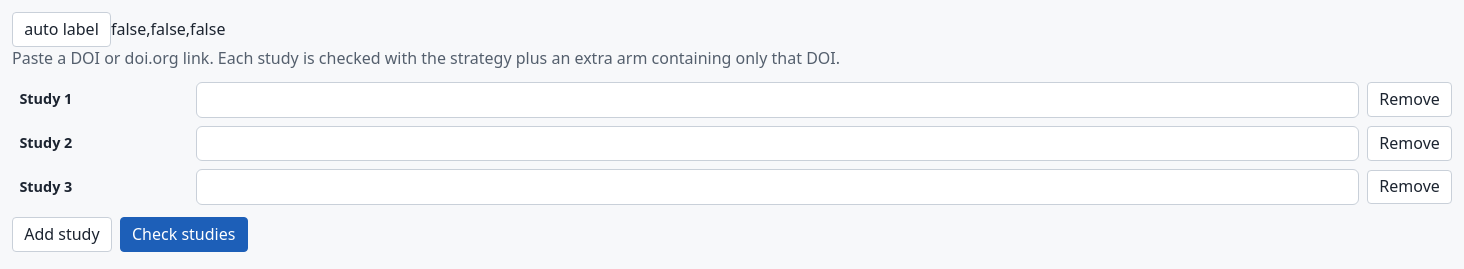
it: StudiesPanel › typing a name marks the label edited; clearing it unlocks it
The image size is (1464, 269).
Type "Custom, 2020" into the field named "Name for study 1". click: (100, 100)
box: [12,84,188,116]
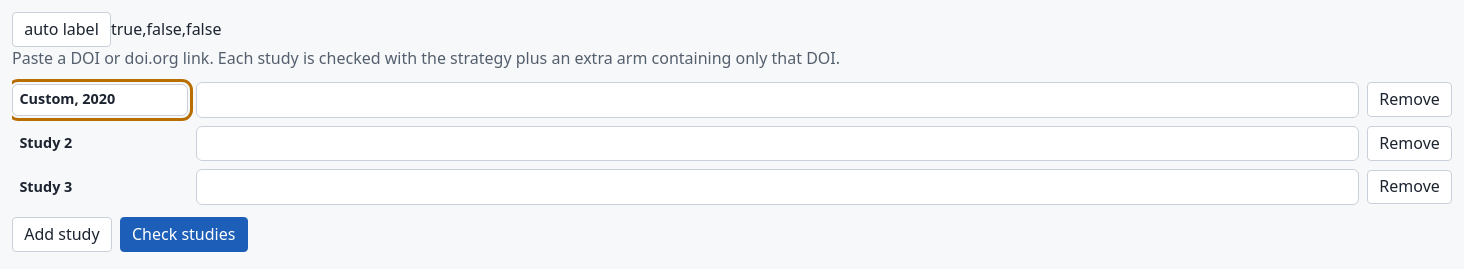
Check: the text with test id "edited" reads "true,false,false", box [111,18,222,40]
Clear the field named "Name for study 1". click: (100, 100)
box: [12,84,188,116]
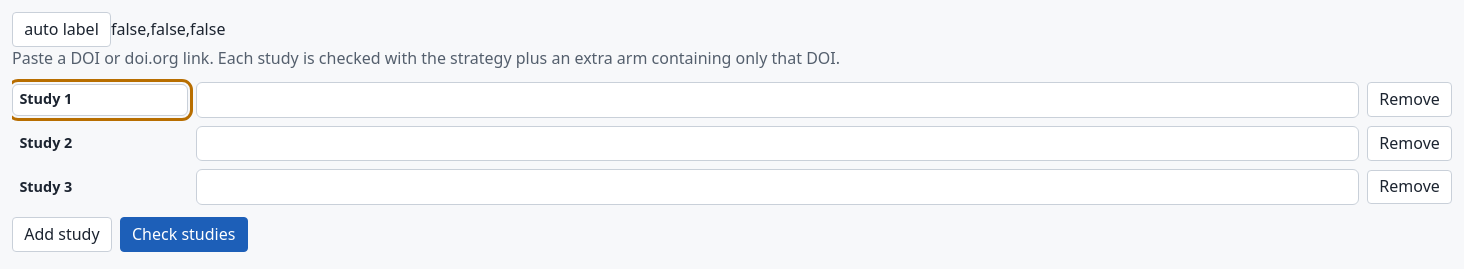
Check: the text with test id "edited" reads "false,false,false", box [111,18,226,40]
